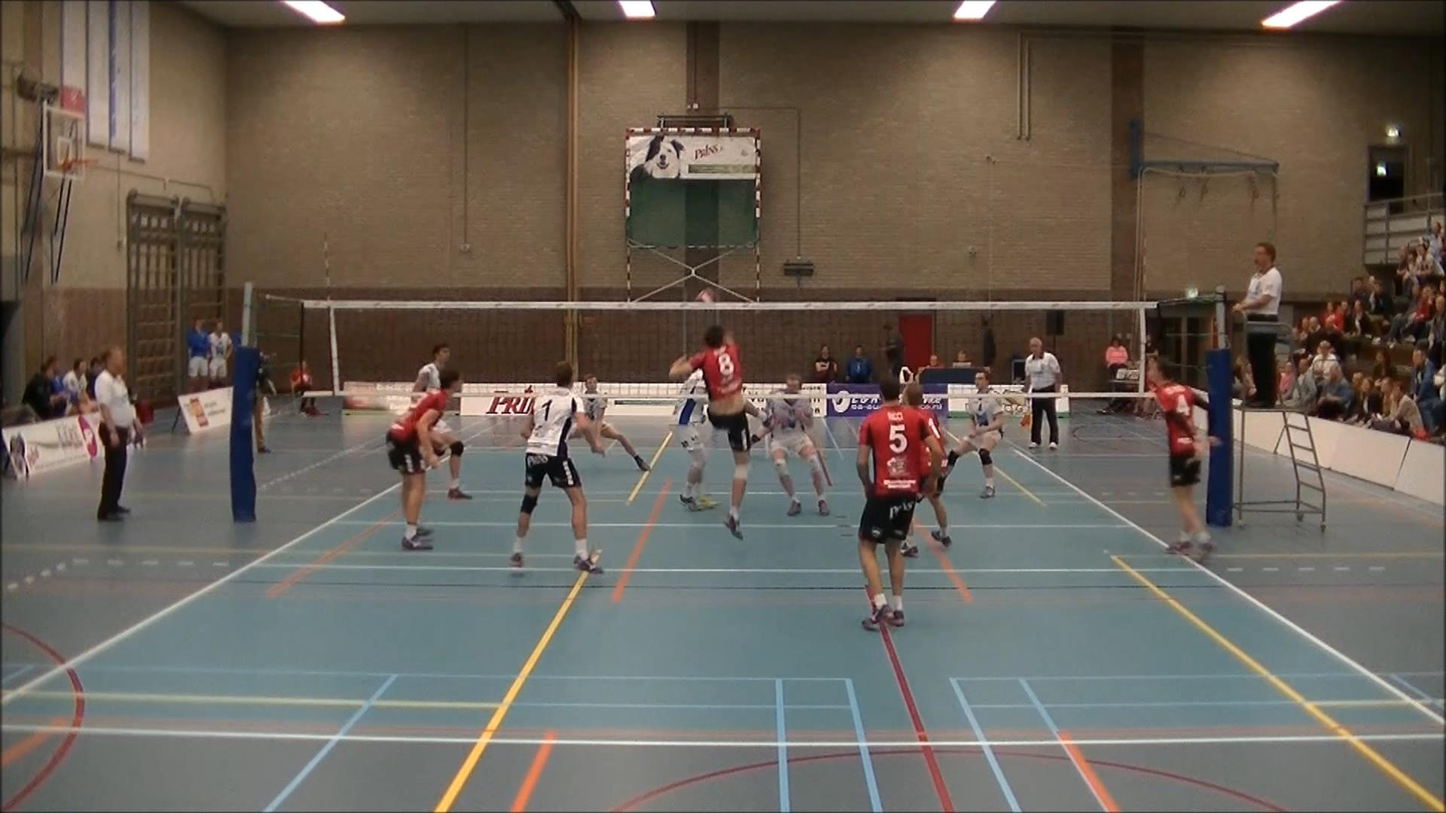Attack: (663, 320, 774, 539)
Player: (856, 378, 942, 630), (511, 362, 603, 573), (1146, 358, 1218, 561), (386, 369, 459, 550), (750, 374, 829, 516), (941, 371, 1005, 498), (582, 374, 648, 470), (673, 370, 715, 510), (432, 419, 471, 500), (921, 472, 951, 548)
ball: (693, 286, 717, 308)
